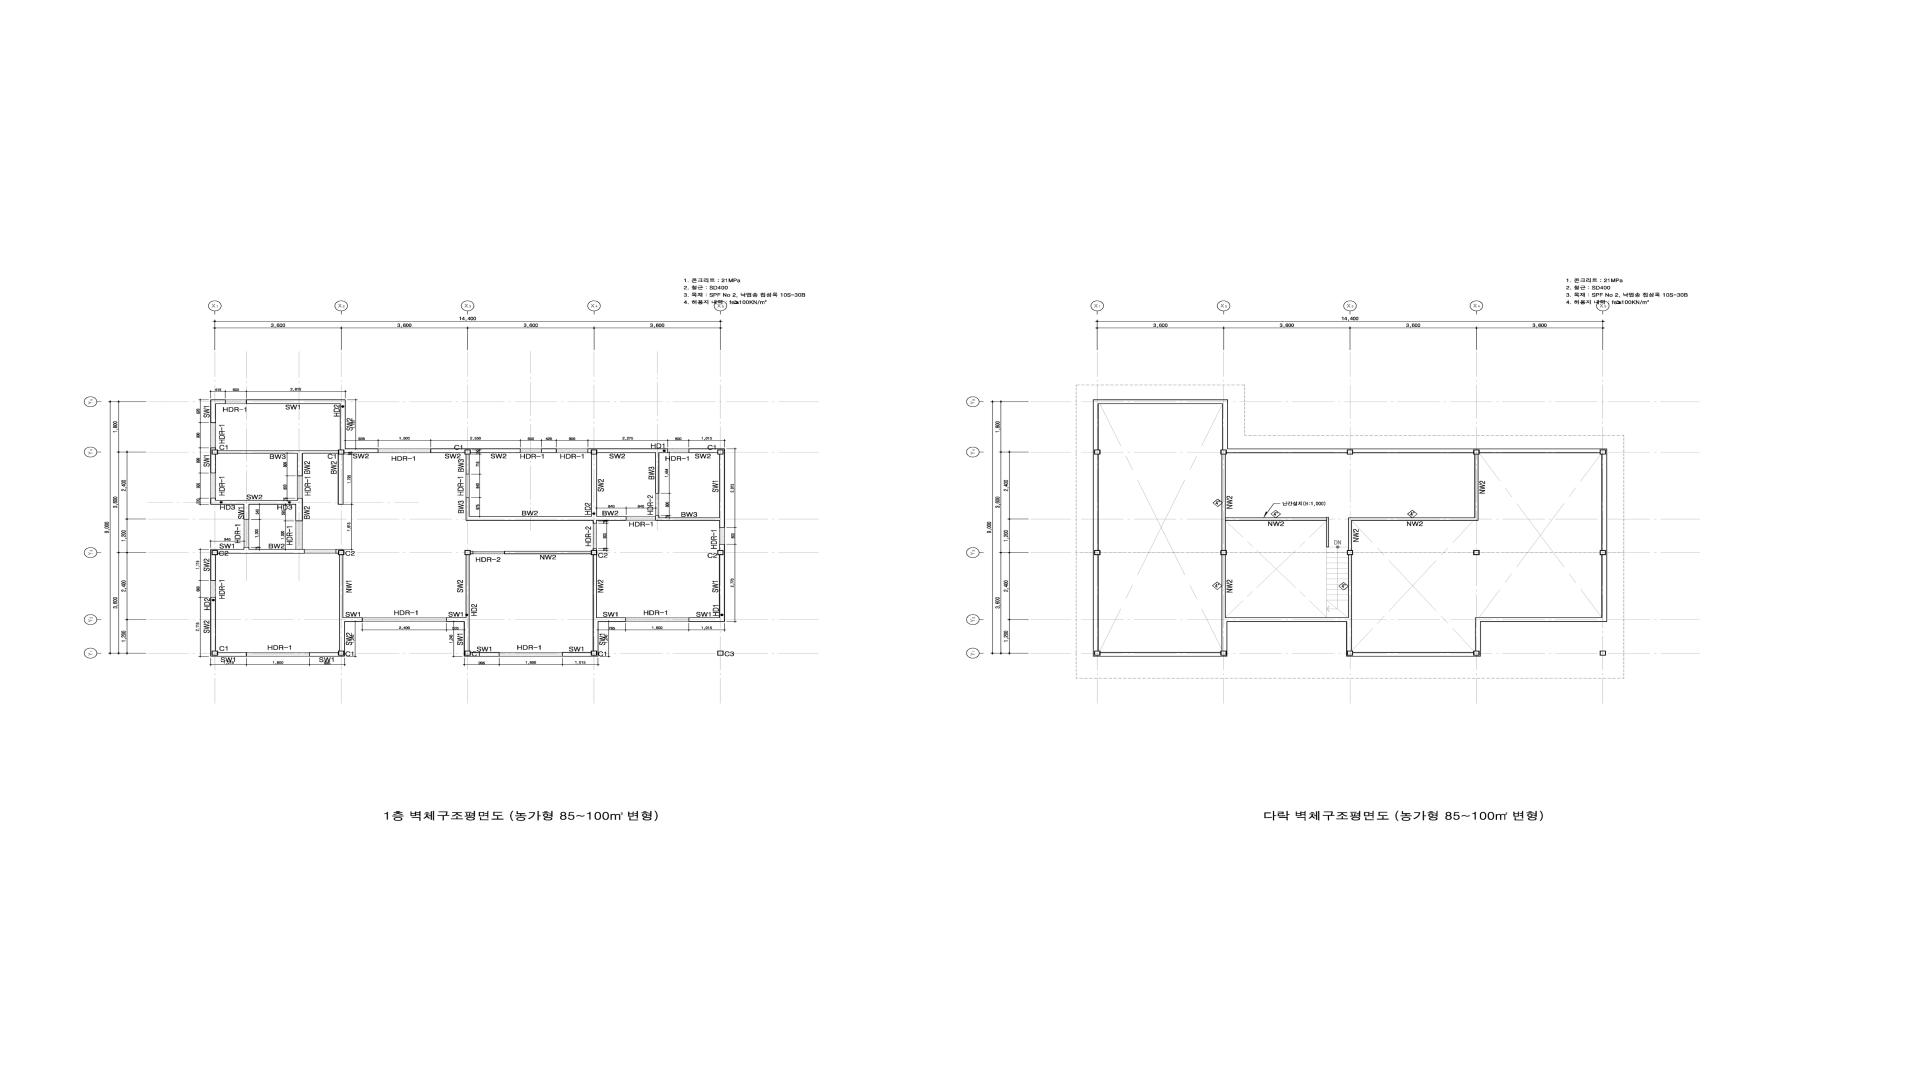door: (295, 521, 303, 549), (626, 516, 655, 521), (305, 550, 335, 554), (297, 476, 302, 498), (593, 524, 597, 549), (655, 493, 659, 516), (465, 475, 469, 497), (473, 551, 504, 554)
wall: (469, 516, 626, 521), (1093, 651, 1228, 657), (1346, 651, 1481, 657), (1473, 448, 1606, 454), (1601, 448, 1607, 550), (1481, 617, 1607, 622), (1346, 448, 1473, 454), (1228, 617, 1352, 622), (1222, 448, 1346, 454), (1093, 455, 1098, 555), (1093, 555, 1098, 655), (1352, 517, 1478, 521), (1098, 400, 1222, 404), (719, 455, 725, 527), (1601, 550, 1607, 617), (719, 555, 725, 617), (1225, 517, 1327, 521), (591, 455, 597, 516), (247, 400, 345, 404), (597, 448, 669, 454), (1221, 455, 1225, 550), (210, 597, 216, 650), (338, 455, 344, 505), (592, 555, 597, 617), (218, 451, 338, 454), (210, 497, 249, 505), (249, 549, 305, 554), (1093, 400, 1098, 455), (249, 500, 303, 505), (471, 448, 521, 454), (340, 404, 345, 454), (592, 617, 599, 657), (1222, 400, 1228, 448), (339, 555, 343, 617), (465, 555, 469, 617), (1348, 555, 1352, 617), (1474, 455, 1478, 517), (1221, 555, 1225, 617), (659, 517, 719, 521), (504, 551, 591, 554), (339, 617, 345, 650), (1221, 617, 1228, 650), (430, 448, 471, 454), (218, 547, 249, 554), (1476, 617, 1481, 655), (688, 617, 725, 622), (464, 651, 500, 657), (562, 651, 597, 657), (688, 448, 724, 454), (345, 448, 378, 454), (210, 447, 216, 473), (210, 555, 216, 580), (655, 454, 659, 493), (1346, 622, 1352, 651), (297, 454, 303, 476), (464, 622, 469, 650), (599, 617, 626, 622), (310, 653, 345, 657), (211, 653, 247, 657), (210, 404, 216, 423), (1348, 517, 1352, 550), (446, 617, 469, 622), (295, 505, 303, 521), (465, 497, 469, 521), (345, 617, 363, 622), (541, 448, 556, 454), (1327, 517, 1329, 547), (465, 455, 469, 475), (244, 505, 249, 520), (719, 545, 725, 555), (210, 400, 225, 404), (210, 549, 218, 555), (588, 448, 597, 454), (338, 650, 345, 655), (335, 549, 343, 554), (1220, 650, 1228, 655), (211, 650, 218, 655), (464, 650, 471, 655), (591, 650, 597, 655), (464, 550, 471, 555), (591, 550, 597, 555), (717, 550, 724, 555), (717, 450, 724, 455), (591, 450, 597, 455), (464, 450, 471, 455), (338, 550, 344, 555), (338, 450, 344, 455), (1095, 650, 1101, 655), (1095, 550, 1101, 555), (1095, 450, 1101, 455), (1220, 450, 1226, 455), (1220, 550, 1226, 555), (1346, 650, 1353, 655), (1473, 650, 1480, 655), (1346, 550, 1353, 555), (1346, 450, 1353, 455), (1473, 450, 1480, 455), (1600, 450, 1606, 455), (1600, 550, 1606, 555), (212, 450, 218, 455), (212, 550, 218, 555), (655, 516, 659, 521), (592, 521, 597, 524), (724, 448, 725, 455), (210, 650, 211, 657), (297, 498, 303, 500), (471, 551, 473, 554), (592, 549, 597, 550)
window: (363, 617, 446, 622), (626, 617, 688, 622), (500, 651, 562, 657), (378, 448, 430, 454), (247, 653, 310, 657), (556, 448, 588, 454), (210, 473, 216, 498), (210, 423, 216, 447), (244, 520, 249, 547), (210, 580, 216, 597), (719, 527, 725, 545), (521, 448, 541, 454), (669, 448, 688, 454), (225, 400, 247, 404)
